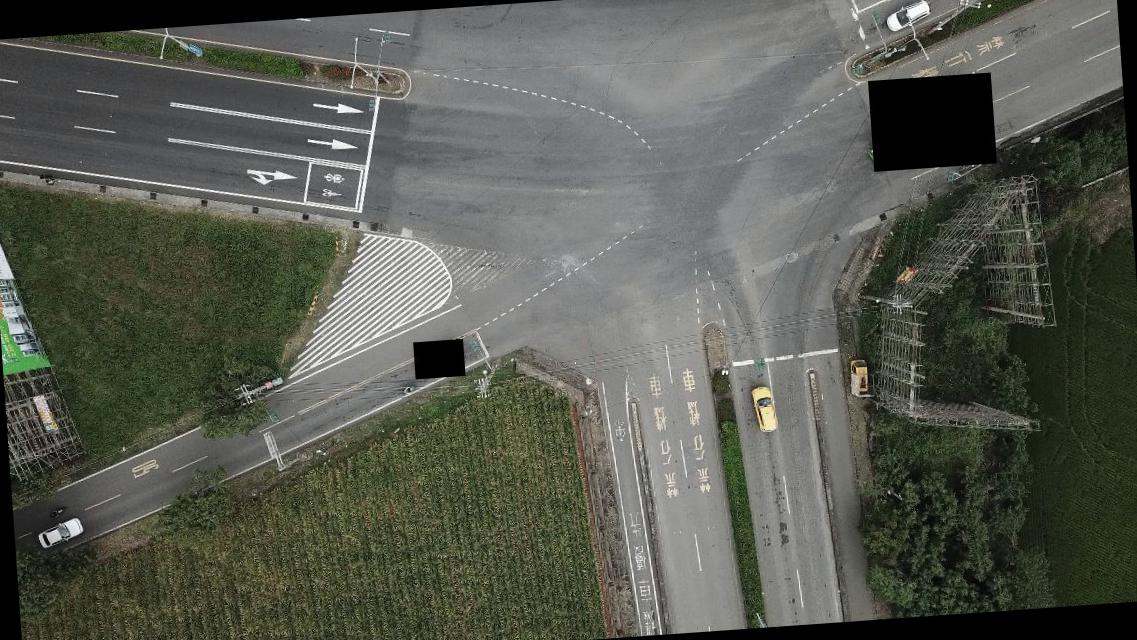vehicle: (34, 516, 88, 552), (884, 0, 933, 32), (754, 384, 780, 436), (846, 360, 874, 395)
